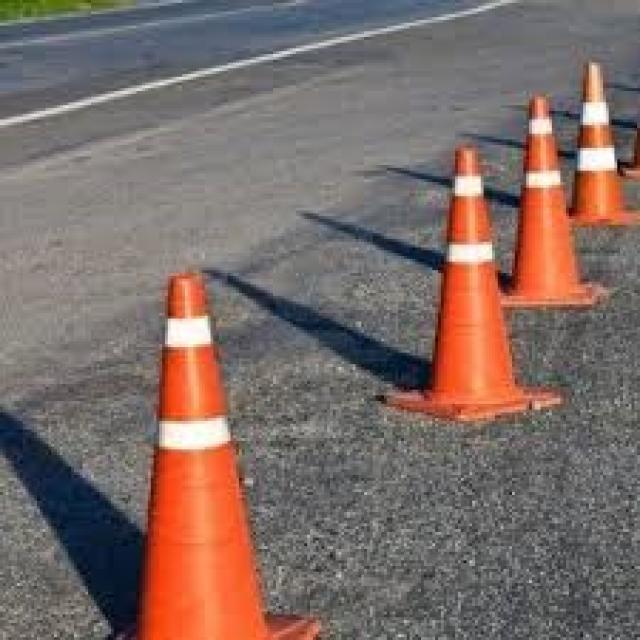Traffic-cone: (122, 263, 317, 640), (391, 95, 567, 437)
